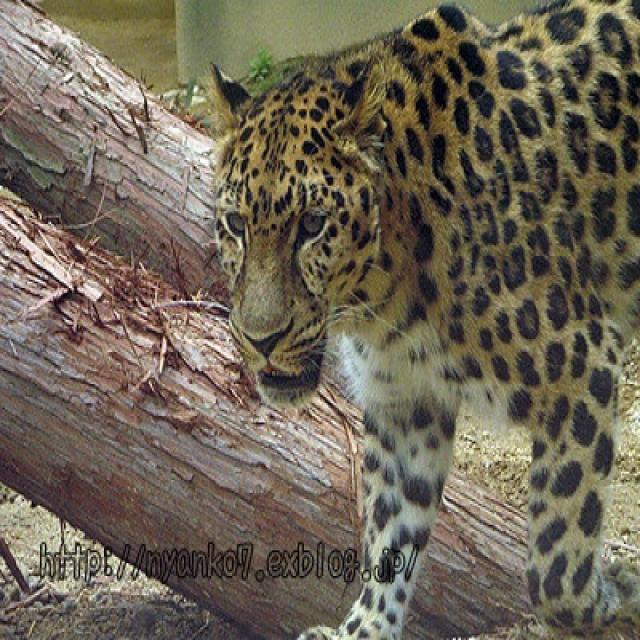Jaguar: (210, 0, 638, 638)
